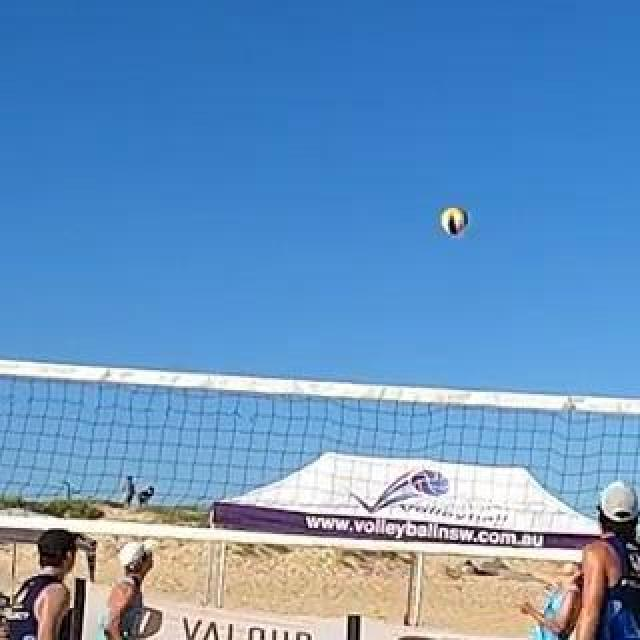volleyball: (441, 209, 467, 235)
